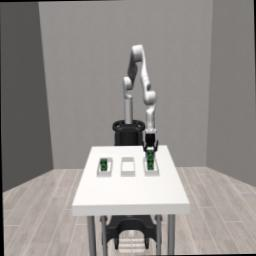cube1: (99, 158, 107, 172)
cube2: (146, 149, 154, 161)
cube3: (147, 160, 154, 170)
